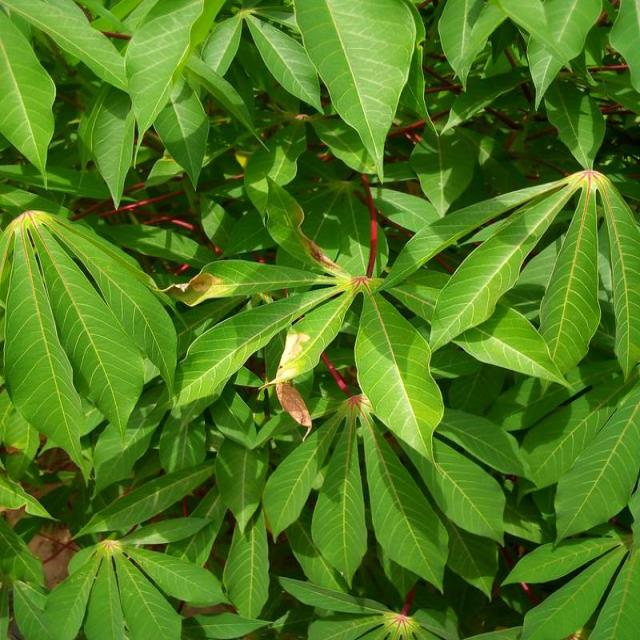cassava leaf: (1, 0, 638, 638), (0, 207, 178, 482), (353, 285, 444, 465)
